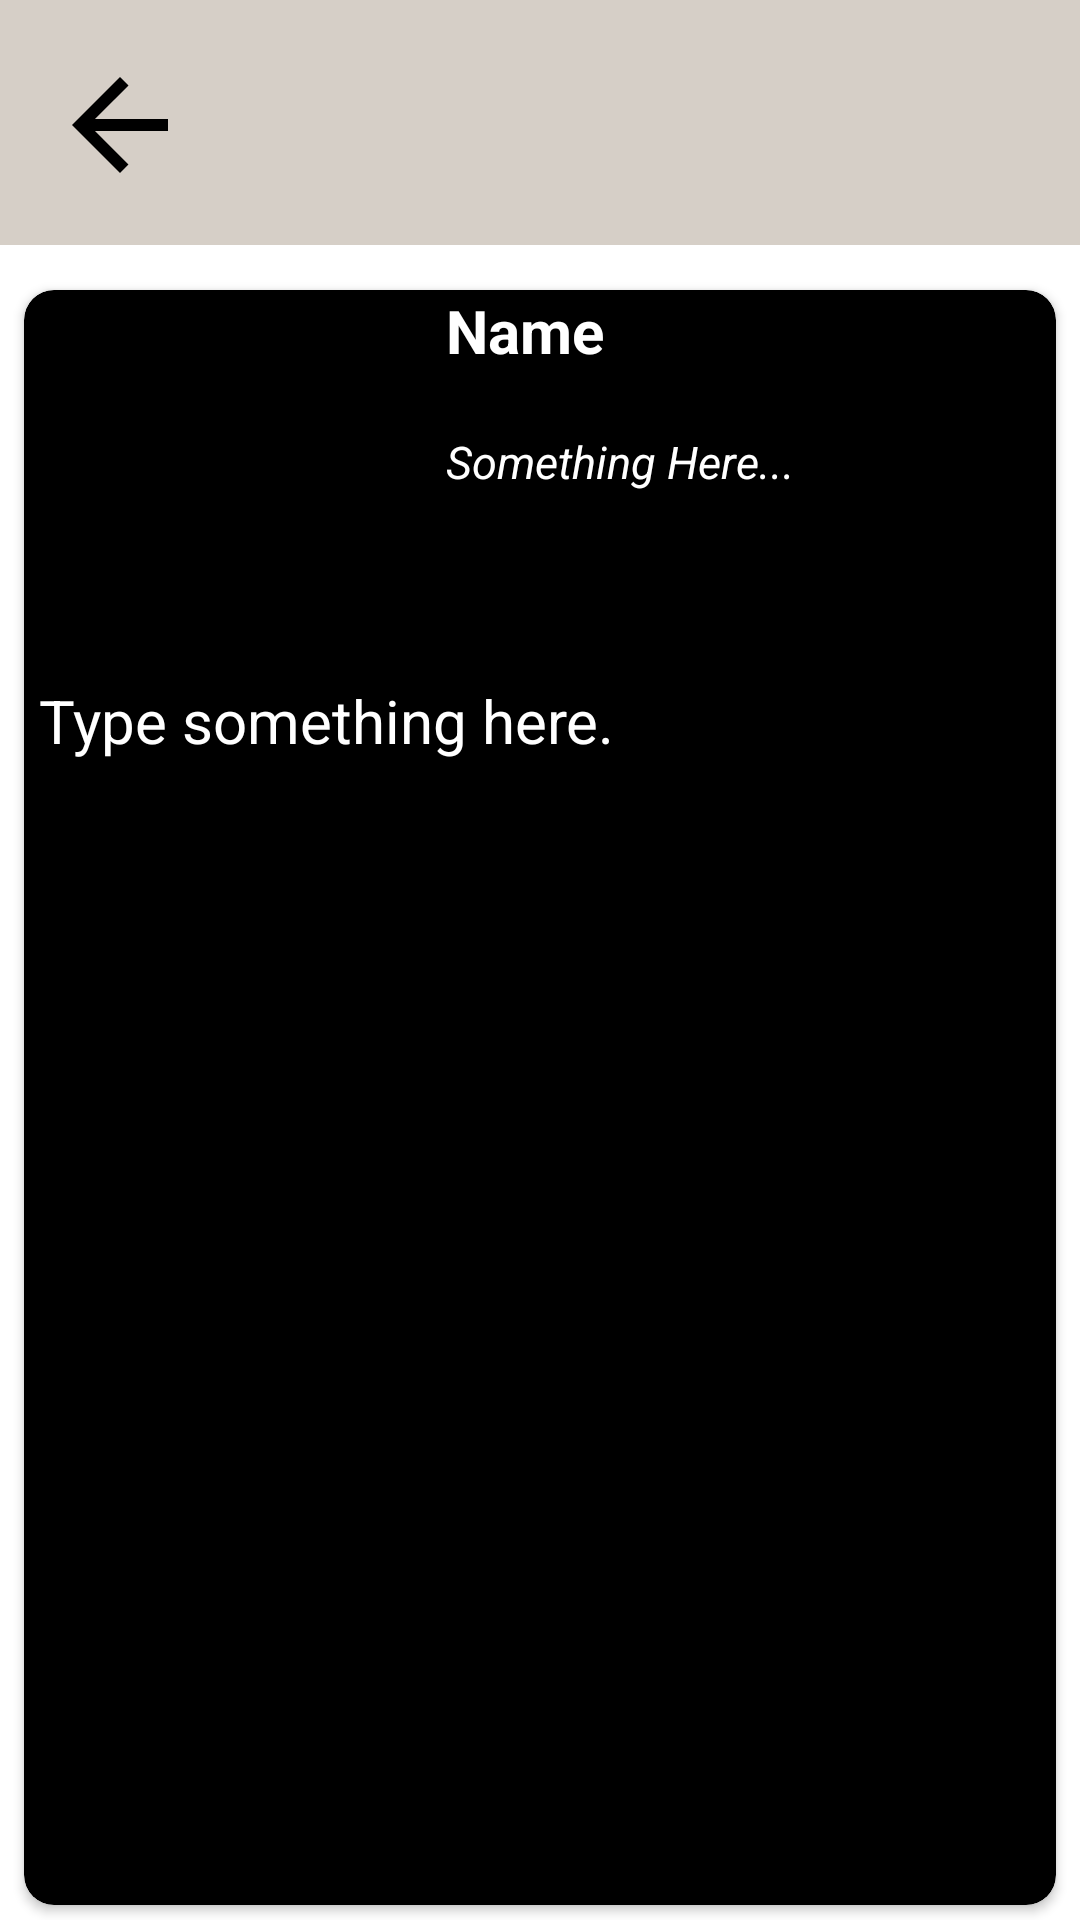

Screen size 1080x1920. Icon name, then its box in pixels as (x1, y1, x2, y2):
back: (72, 77, 168, 173)
